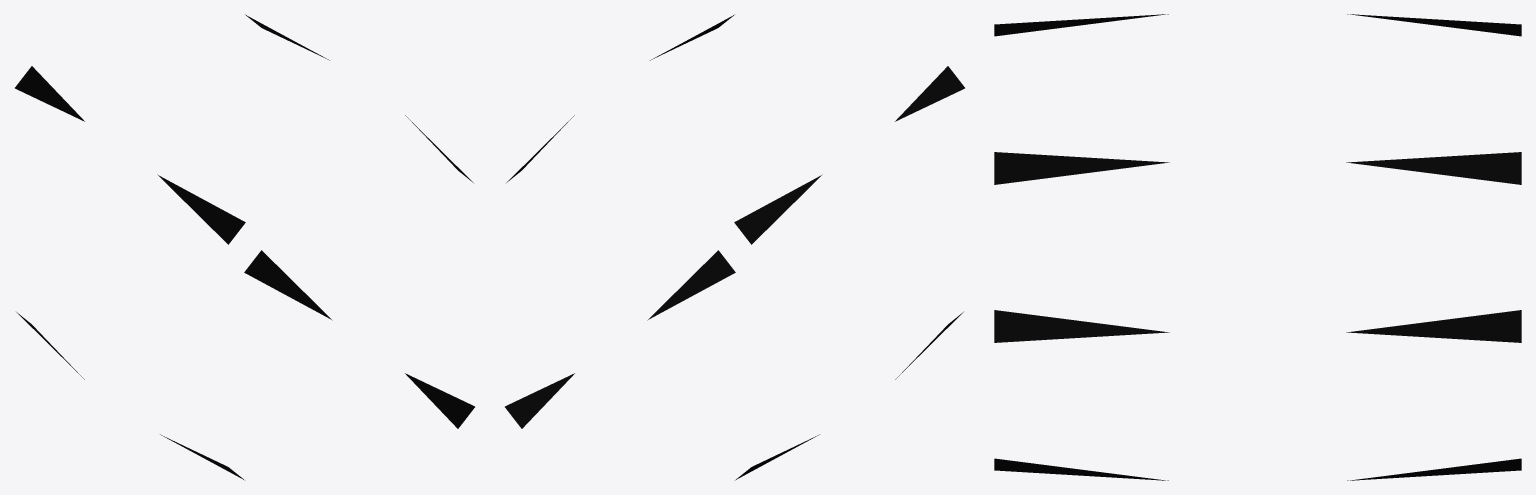
Rendered from a-int-cross.fbx.
3 renders of one model, left to right at view 1: azimuth 30°, elevation 25°; view 2: azimuth 150°, elevation 25°; view 3: azimuth 270°, elevation 25°, orthographic. The views are drawn at different scales.
Visible parts, largest first — view 1: a-int-cross; view 2: a-int-cross; view 3: a-int-cross.
Part boxes in pixels (x1,y1,x2,y2): a-int-cross: (15, 14, 474, 480); a-int-cross: (505, 14, 964, 480); a-int-cross: (994, 14, 1521, 480).
Size of the model in its own units: 2 by 2 by 3.
